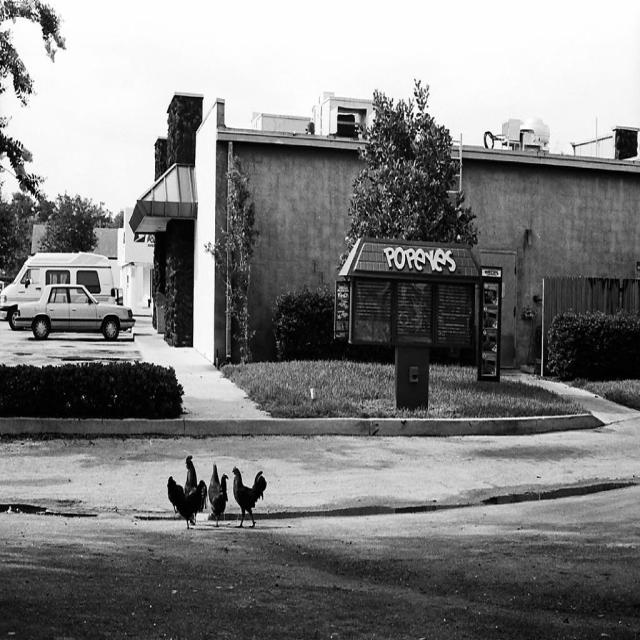car: (8, 280, 136, 341)
